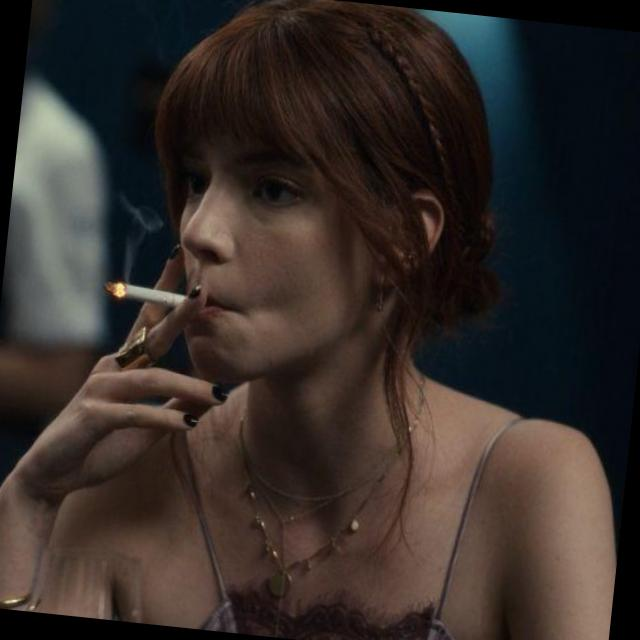cigarette: (80, 251, 240, 355)
